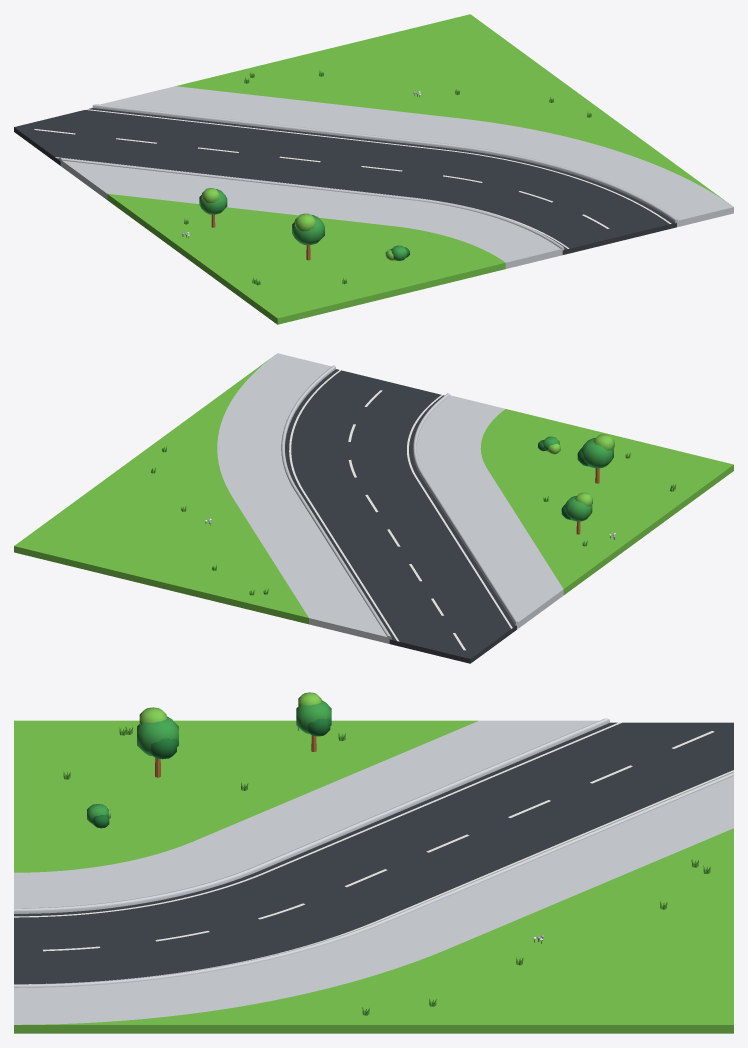
Rendered from rua_diagonal_curva_esquerda_grama.glb.
3 renders of one model, top to bottom at view 1: azimuth 30°, elevation 25°; view 2: azimuth 150°, elevation 25°; view 3: azimuth 270°, elevation 25°, orthographic. The views are drawn at different scales.
Visible parts, largest first — view 1: rua_diagonal_curva_esquerda_grama; view 2: rua_diagonal_curva_esquerda_grama; view 3: rua_diagonal_curva_esquerda_grama.
Boxes of the visible parts, x1,y1,x2,y2 form: rua_diagonal_curva_esquerda_grama: (14, 14, 733, 324); rua_diagonal_curva_esquerda_grama: (14, 353, 733, 663); rua_diagonal_curva_esquerda_grama: (14, 692, 733, 1033).
Bounding box in the file's own units: 30 × 3.33 × 30.
Materials: 1 (1 with a texture image).
